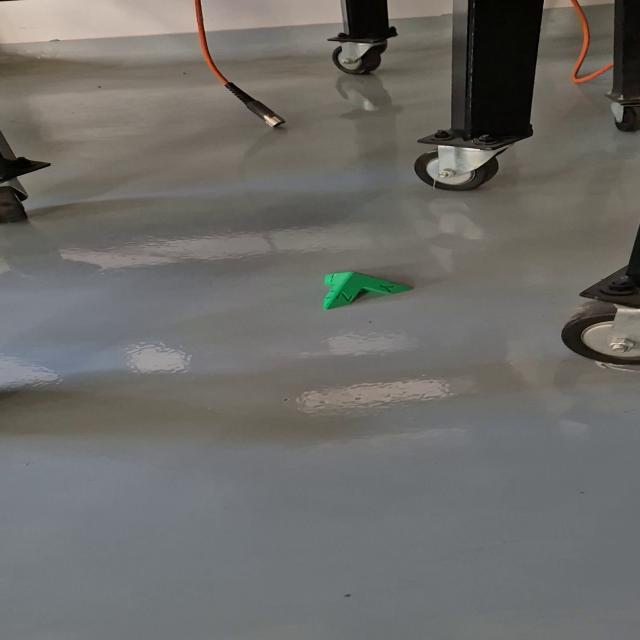objects: (321, 270, 415, 310)
